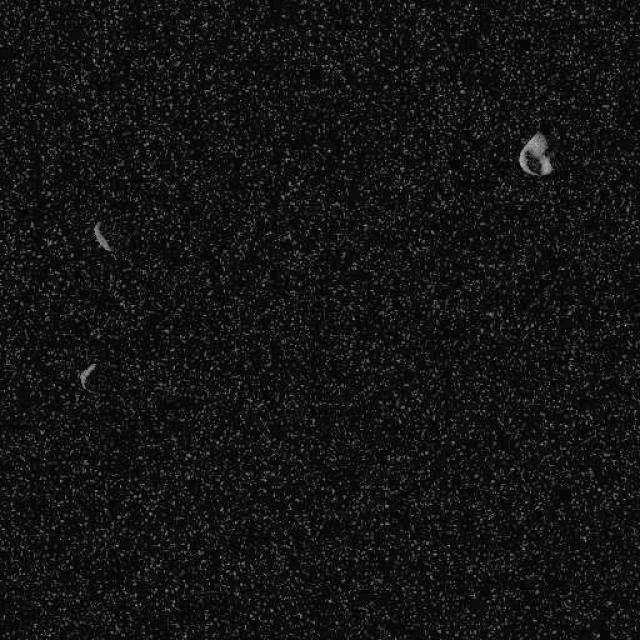D2: (518, 130, 554, 176), (91, 220, 112, 252), (78, 361, 98, 391)
